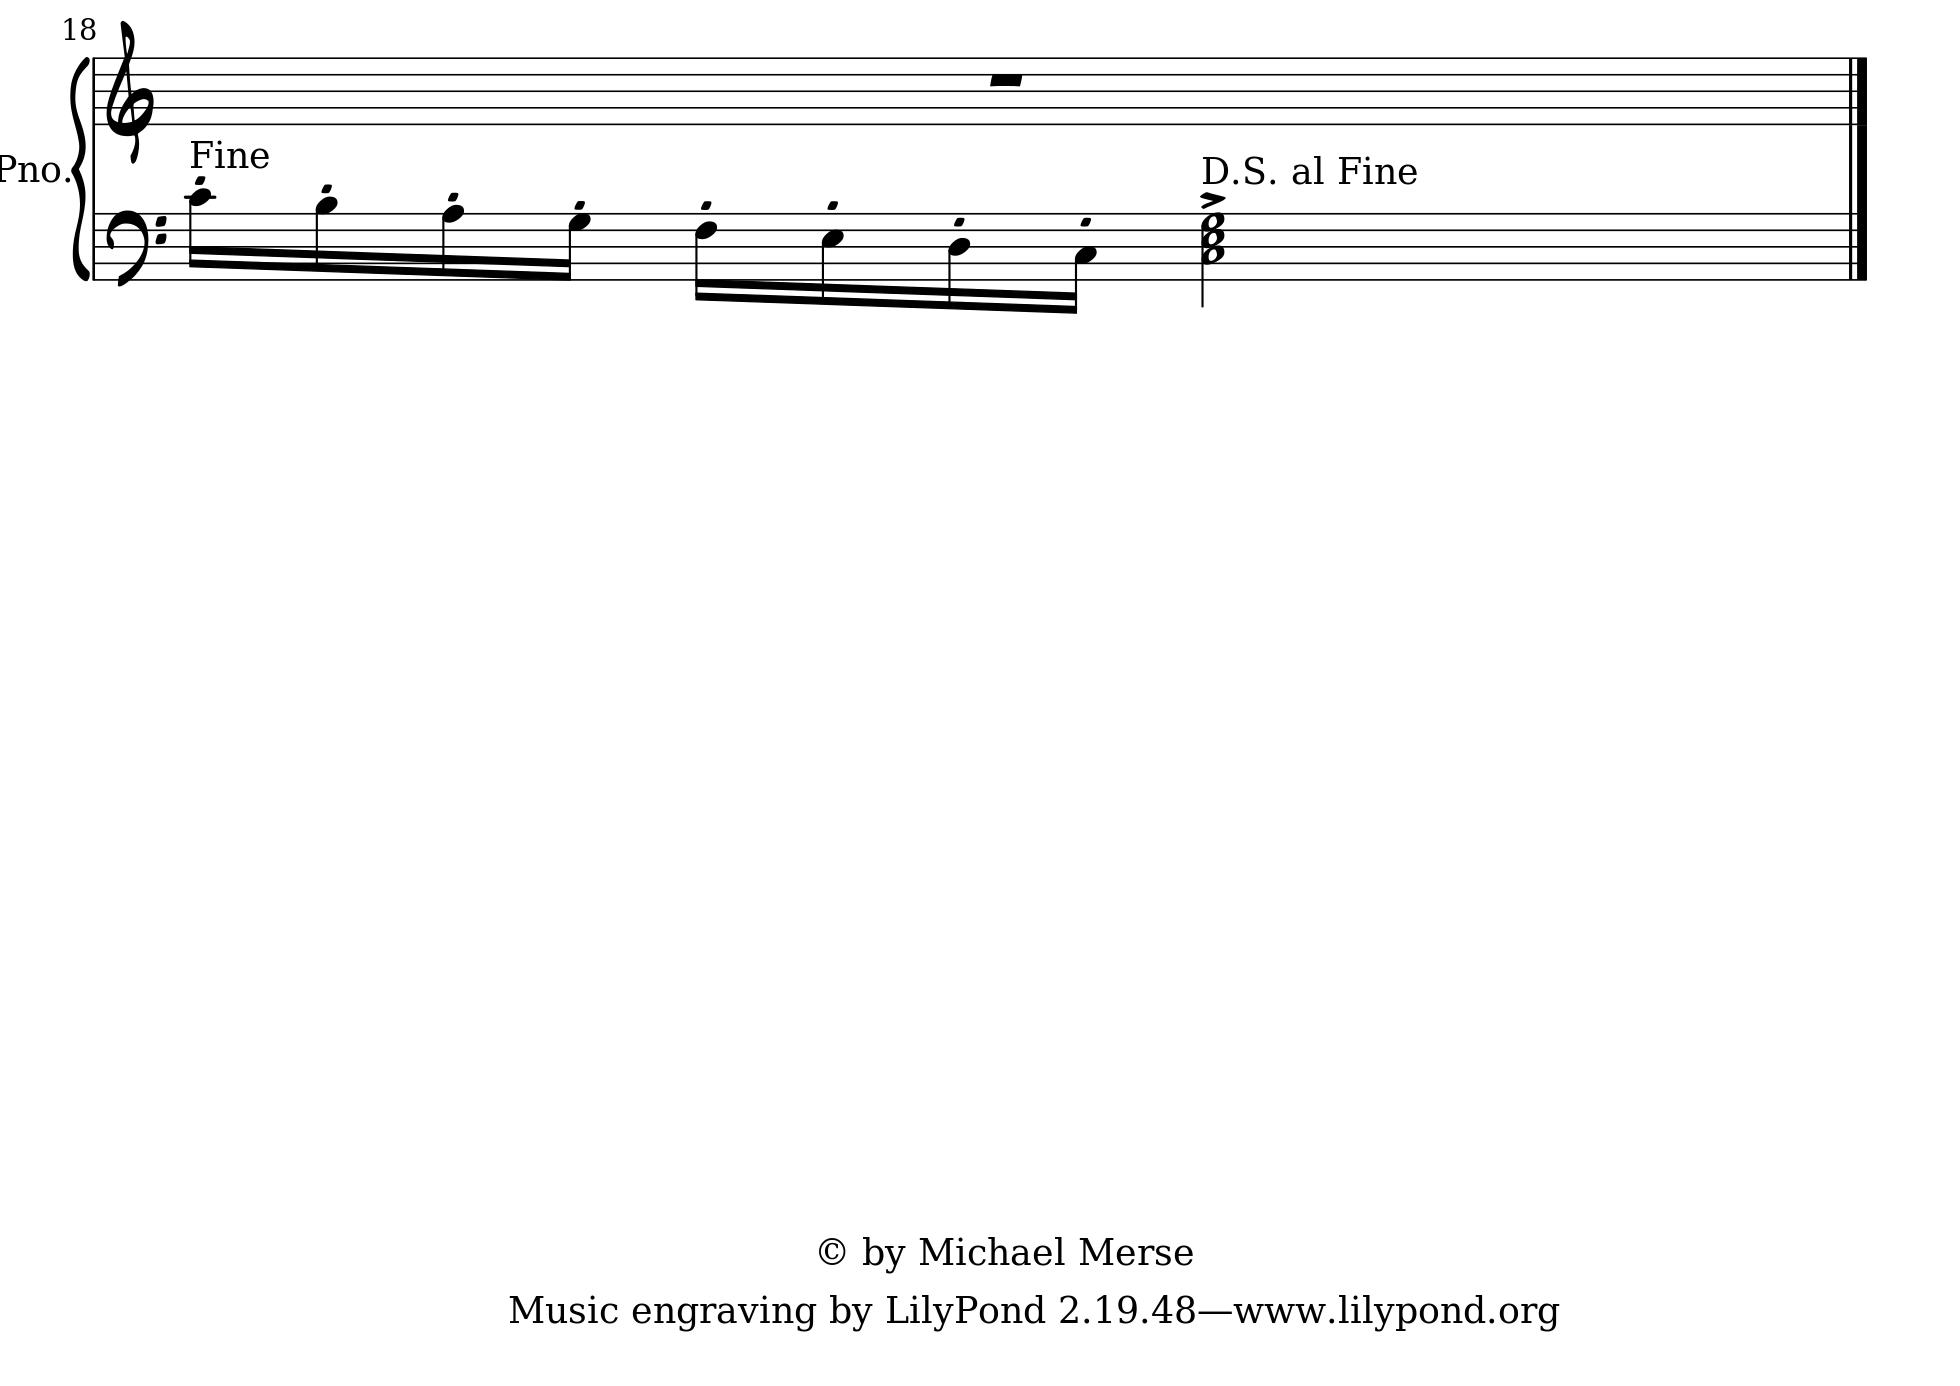1: (61, 15, 75, 40)
16_10: (184, 187, 216, 280)
16_3: (1065, 211, 1098, 316)
16_4: (946, 211, 970, 310)
16_5: (820, 211, 844, 307)
16_6: (694, 211, 718, 304)
16_7: (562, 211, 591, 283)
16_8: (441, 205, 463, 280)
16_9: (315, 196, 339, 280)
2_4th: (1197, 214, 1227, 307)
8: (78, 13, 96, 40)
Accent_above: (1197, 187, 1227, 208)
Brace: (70, 52, 91, 283)
Fclef: (103, 208, 168, 286)
Final_barline: (1845, 55, 1872, 123), (1843, 211, 1869, 280)
Gclef: (103, 18, 157, 163)
Pno: (1, 154, 63, 184)
Rests1: (984, 70, 1026, 87)
Single_barline: (88, 214, 102, 277), (88, 57, 100, 124)
